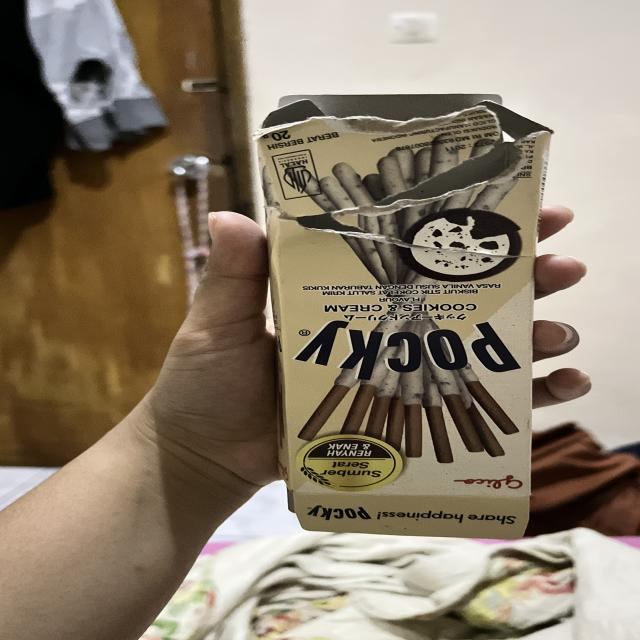Kertas: (251, 125, 550, 500)
